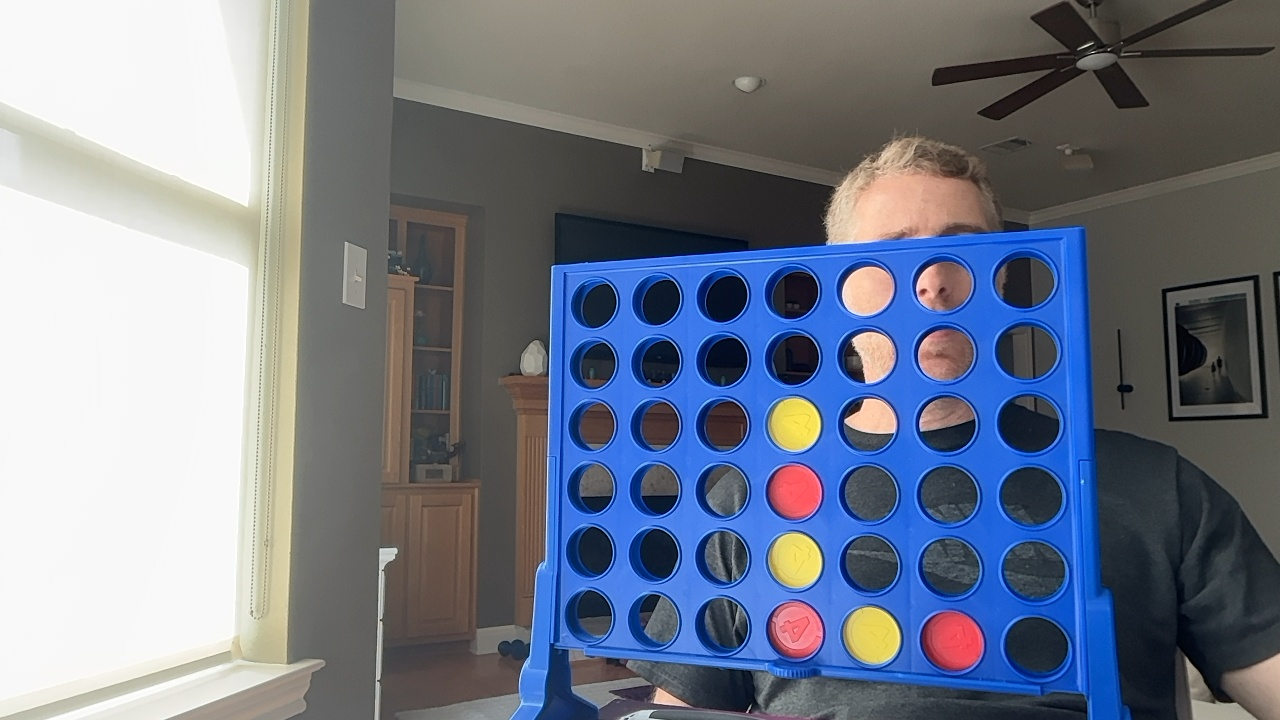red piece: (922, 611, 984, 671), (768, 601, 824, 659), (766, 464, 822, 519)
yellow piece: (843, 606, 901, 665), (768, 532, 822, 588), (768, 397, 821, 451)
